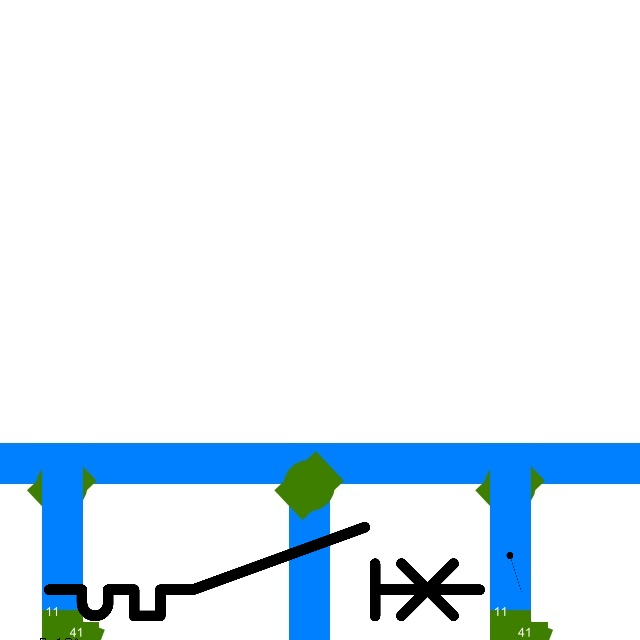interruptor_termomagnetico: (38, 516, 491, 627)
